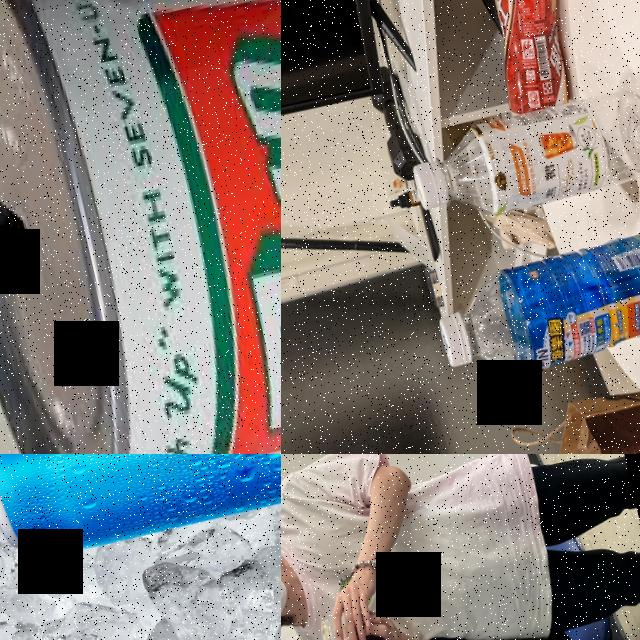bottle: (428, 212, 640, 391), (405, 85, 640, 235), (452, 0, 590, 119)
can: (0, 0, 281, 454), (0, 454, 281, 571)
cup: (315, 604, 393, 640)
